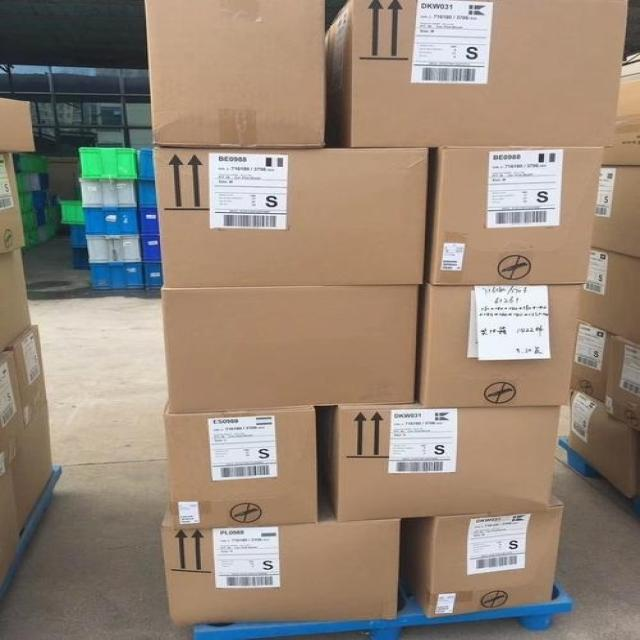box: (325, 1, 626, 149), (153, 146, 429, 287), (163, 283, 419, 412), (160, 493, 404, 624), (315, 404, 562, 519), (143, 0, 325, 145), (427, 146, 607, 283), (420, 283, 587, 406), (403, 491, 562, 613), (166, 409, 317, 531), (563, 389, 639, 498), (8, 401, 54, 525), (579, 248, 639, 338), (592, 163, 638, 258), (603, 55, 639, 166), (9, 322, 47, 424), (606, 329, 639, 429), (0, 442, 25, 571), (576, 315, 611, 401), (3, 247, 31, 352), (0, 151, 27, 254), (1, 350, 28, 448), (0, 96, 33, 154)
